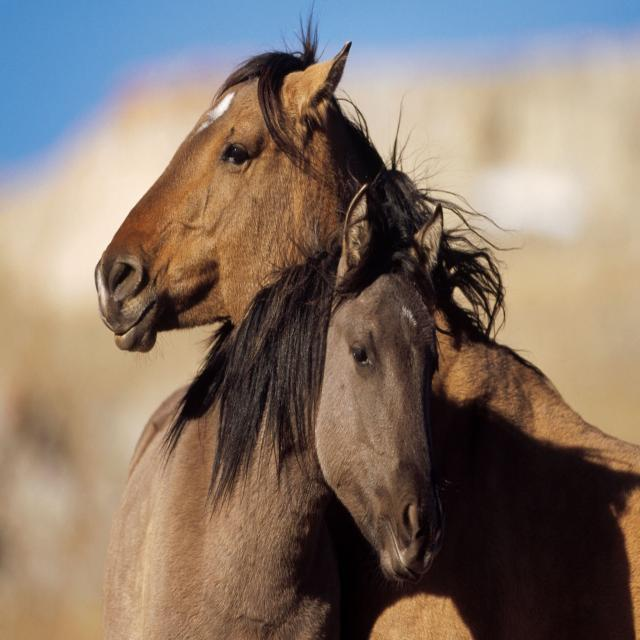Horse: (101, 209, 444, 640), (98, 58, 341, 346)
